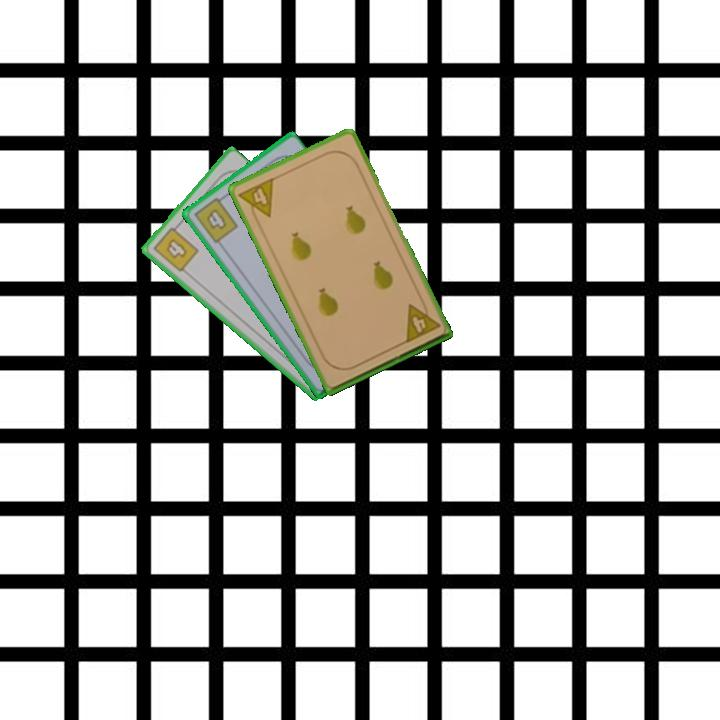4b: (149, 220, 202, 275), (190, 192, 241, 246)
4p: (235, 174, 277, 226), (401, 296, 443, 346)
